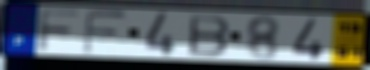4: (144, 11, 178, 58), (291, 18, 326, 61)
8: (243, 15, 282, 61)
B: (187, 13, 232, 58)
F: (80, 8, 130, 56), (35, 8, 83, 53)
